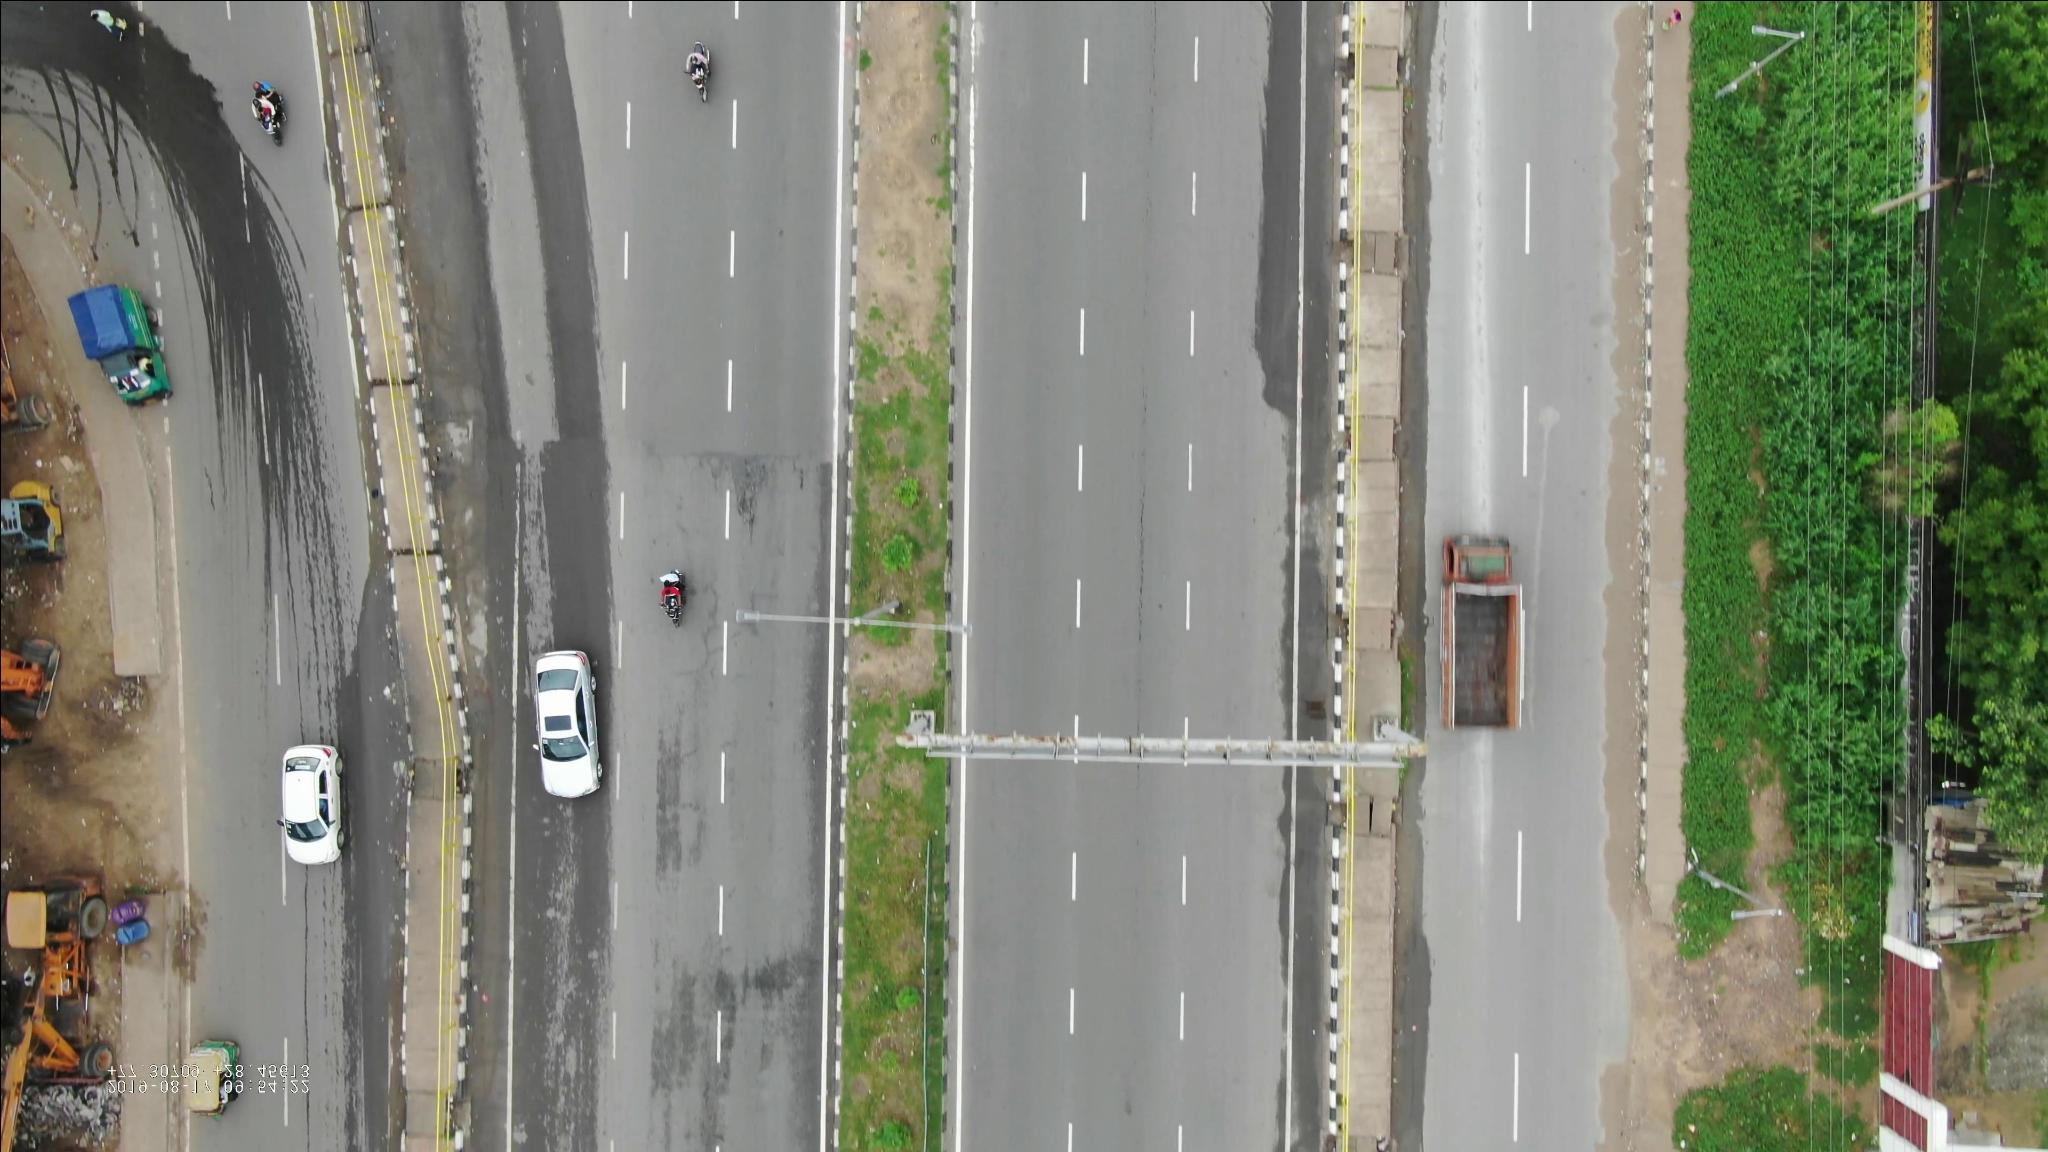Muddy_road: (1594, 408, 1657, 897), (1598, 20, 1663, 373)
